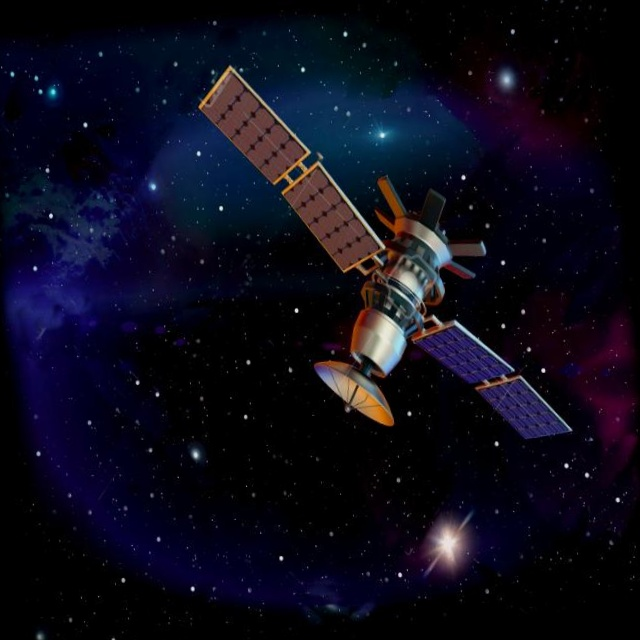medium_debris: (186, 26, 596, 591)
